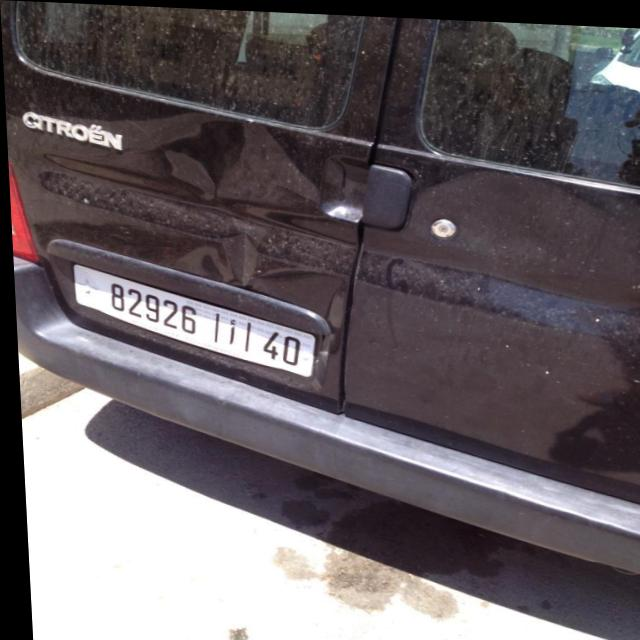License-Plate: (71, 263, 312, 374)
